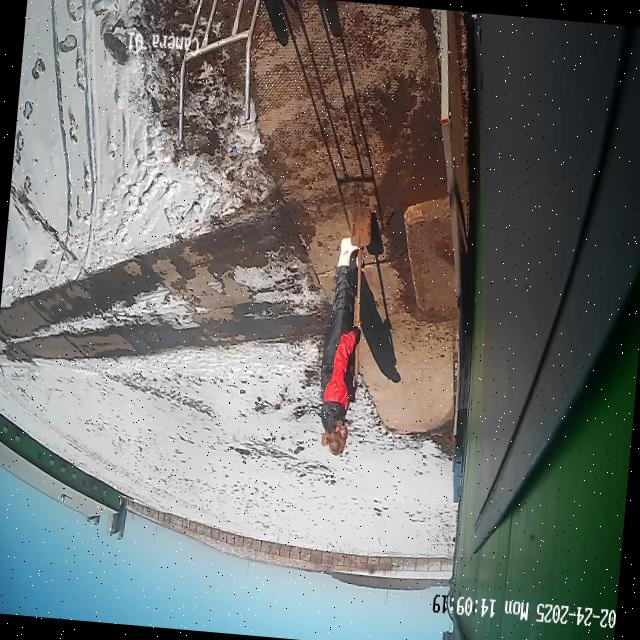Red uniform: (312, 232, 372, 459)
